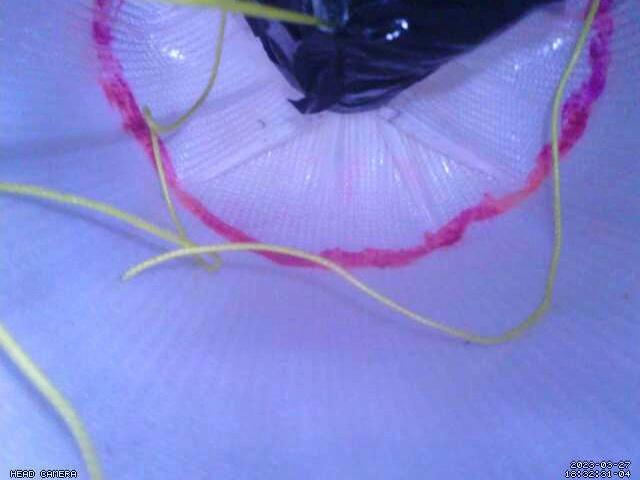head: (90, 0, 620, 270)
